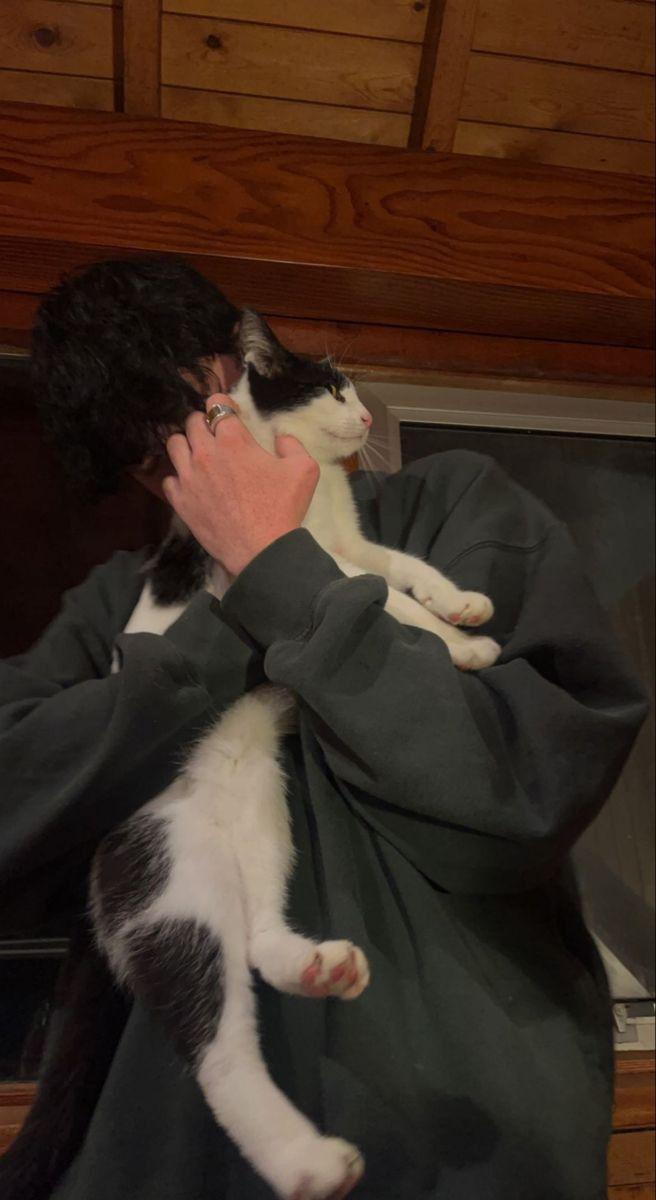kedo: (0, 300, 510, 1200)
